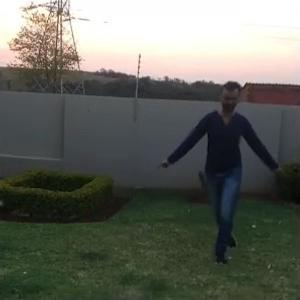land: (177, 84, 278, 232)
